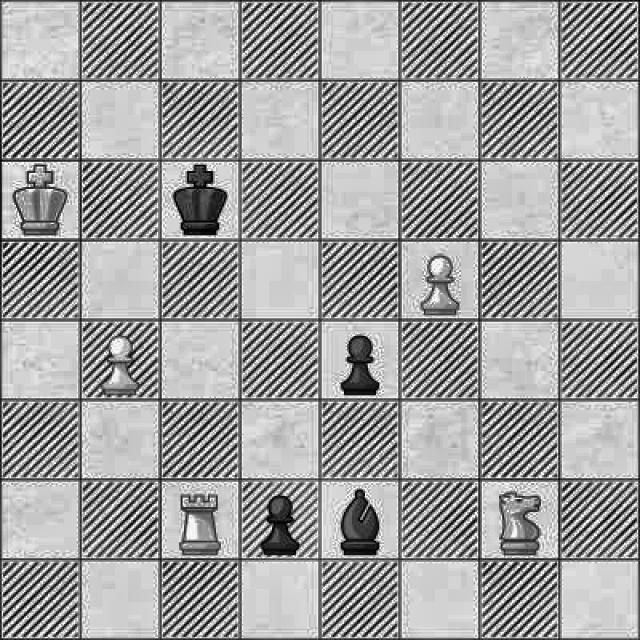black bishop: (336, 491, 390, 559)
black king: (164, 159, 236, 237)
black pawn: (260, 485, 312, 556), (334, 332, 388, 399)
white king: (8, 161, 73, 238)
white pawn: (87, 331, 146, 399), (419, 246, 464, 320)
white rook: (167, 488, 226, 560)
whiteknight: (490, 490, 550, 563)
